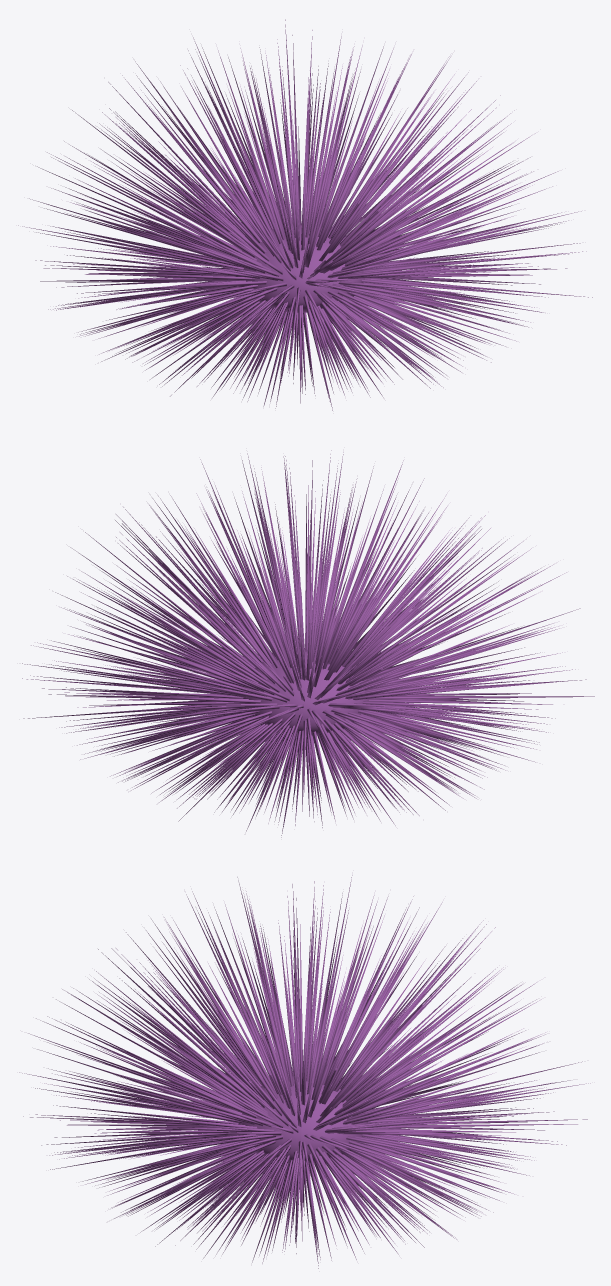
Rendered from sea_urchin_long_spined.glb.
The picture shows the model from 3 angles, top to bottom: view 1: azimuth 30°, elevation 25°; view 2: azimuth 150°, elevation 25°; view 3: azimuth 270°, elevation 25°; orthographic projection.
Visible parts, largest first — view 1: sea_urchin_long_spined; view 2: sea_urchin_long_spined; view 3: sea_urchin_long_spined.
Boxes of the visible parts, x1,y1,x2,y2 form: sea_urchin_long_spined: (18,19,592,410); sea_urchin_long_spined: (22,450,594,837); sea_urchin_long_spined: (19,875,590,1268).
Size of the model in its own units: 0.2857 by 0.1464 by 0.2801.
